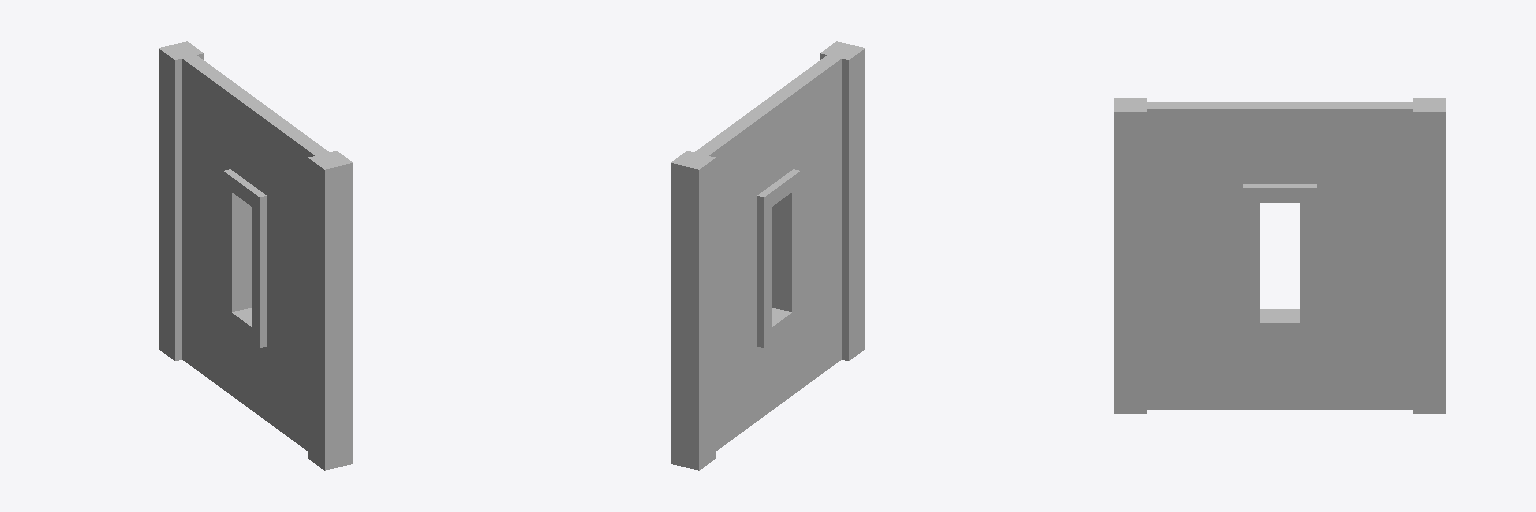
Rendered from wall-window-small.obj.
3 renders of one model, left to right at view 1: azimuth 30°, elevation 25°; view 2: azimuth 150°, elevation 25°; view 3: azimuth 270°, elevation 25°, orthographic.
Visible parts, largest first — view 1: wall-window-small; view 2: wall-window-small; view 3: wall-window-small.
Part boxes in pixels (left/top/right/bottom): wall-window-small: left=159, top=41, right=352, bottom=470; wall-window-small: left=671, top=41, right=864, bottom=470; wall-window-small: left=1114, top=98, right=1445, bottom=413.
Size of the model in its own units: 0.1 by 1 by 1.